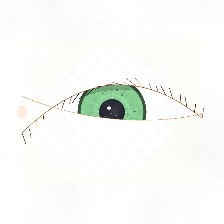pinguecula_lesion: (29, 102, 72, 136)
